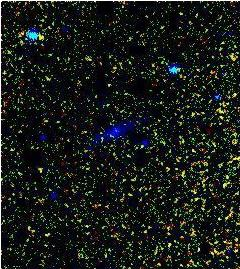star: (28, 23, 58, 53)
